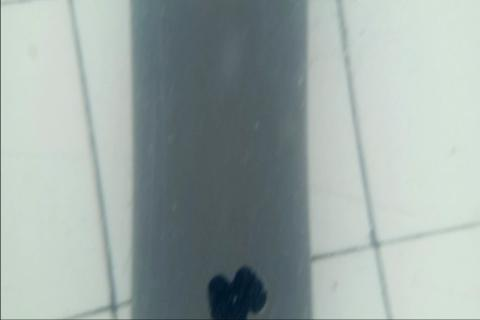kebocoran: (204, 262, 269, 320)
